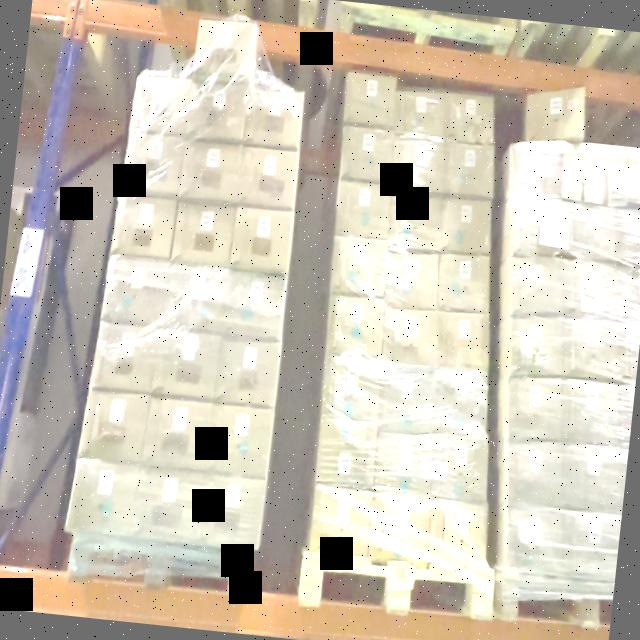box: (196, 476, 265, 550), (70, 462, 138, 536), (136, 468, 202, 542), (84, 390, 150, 462), (146, 398, 212, 470), (208, 405, 274, 476), (310, 488, 374, 558), (104, 257, 170, 324), (155, 332, 220, 398), (215, 338, 278, 406), (370, 498, 434, 564), (95, 324, 157, 392), (222, 272, 284, 339), (165, 264, 227, 331), (318, 419, 378, 487), (114, 194, 176, 258), (562, 448, 624, 512), (563, 513, 619, 582), (174, 202, 236, 264), (230, 208, 290, 272), (376, 434, 437, 496), (324, 356, 384, 419), (429, 502, 488, 566), (506, 508, 562, 574), (124, 134, 184, 195), (188, 81, 248, 142), (182, 142, 242, 202), (238, 148, 296, 210), (562, 382, 618, 446), (507, 442, 562, 506), (380, 368, 434, 433), (508, 376, 562, 441), (198, 19, 256, 79), (328, 294, 384, 356), (432, 436, 487, 499), (244, 89, 302, 148), (134, 78, 192, 136), (431, 372, 485, 433), (382, 308, 437, 367), (436, 311, 490, 371), (336, 181, 392, 238), (332, 238, 386, 296), (343, 72, 398, 128), (511, 317, 564, 375), (436, 253, 488, 312), (528, 88, 582, 144), (566, 320, 618, 378), (340, 128, 394, 183), (439, 198, 492, 254), (511, 200, 564, 256), (384, 252, 436, 308), (442, 142, 494, 198), (564, 260, 614, 318), (388, 196, 441, 250), (511, 146, 563, 200), (564, 205, 616, 258), (512, 260, 562, 315), (562, 147, 610, 204), (393, 138, 443, 192), (445, 92, 494, 142), (396, 92, 444, 138), (609, 151, 640, 207), (612, 209, 640, 264), (616, 269, 640, 321), (620, 324, 640, 380)
